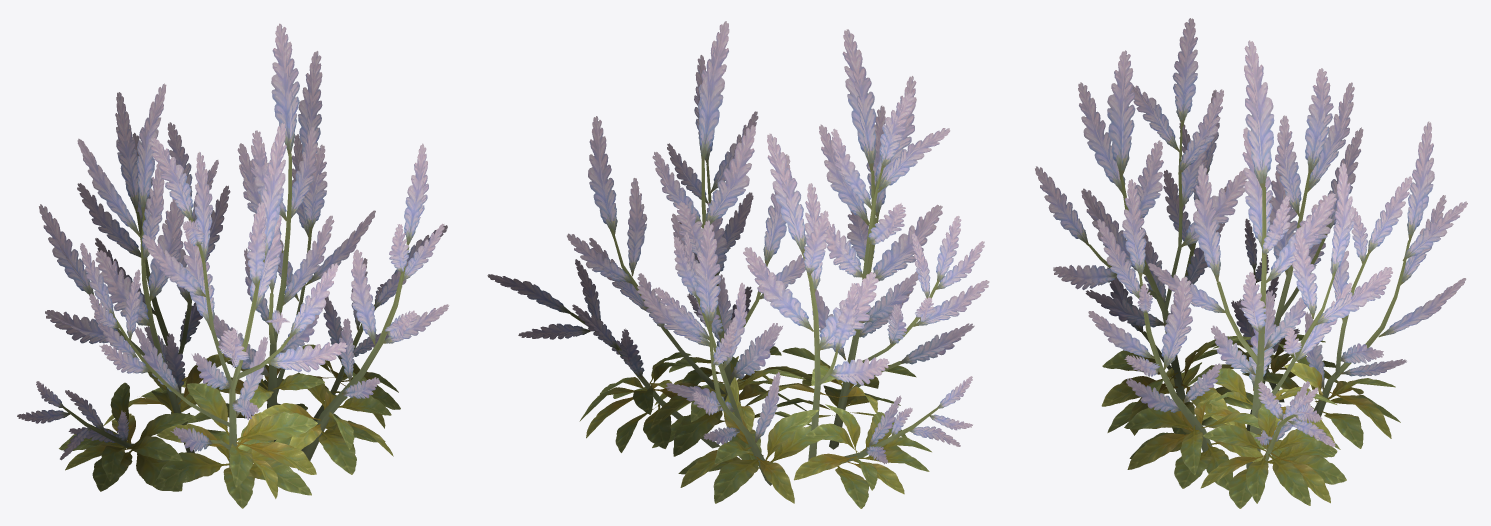
File: Homeworld_Exterior_Xm_Plant_Grass_Desert_09_Lod0.fbx
3 renders of one model, left to right at view 1: azimuth 30°, elevation 25°; view 2: azimuth 150°, elevation 25°; view 3: azimuth 270°, elevation 25°, orthographic.
Visible parts, largest first — view 1: Area_Xm_Grass_CWSM_Bc_01_Lod0; view 2: Area_Xm_Grass_CWSM_Bc_01_Lod0; view 3: Area_Xm_Grass_CWSM_Bc_01_Lod0.
Boxes of the visible parts, x1=… form: Area_Xm_Grass_CWSM_Bc_01_Lod0: x1=17, y1=23, x2=449, y2=508; Area_Xm_Grass_CWSM_Bc_01_Lod0: x1=487, y1=21, x2=989, y2=508; Area_Xm_Grass_CWSM_Bc_01_Lod0: x1=1035, y1=18, x2=1467, y2=508.
Size of the model in its own units: 2 by 1.8 by 1.68.
Materials: 1 (1 with a texture image).
